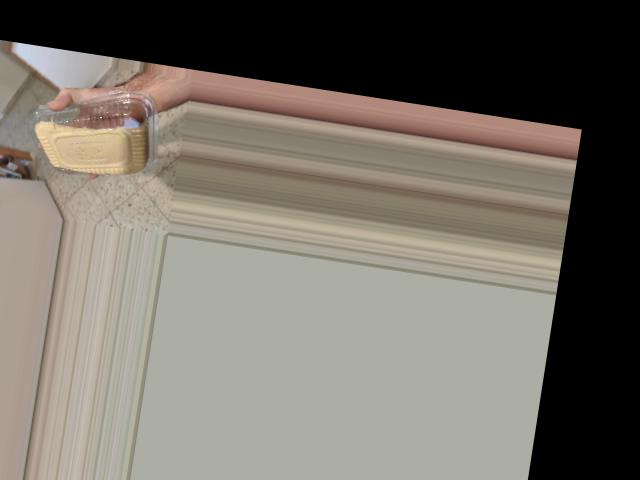cheese: (55, 104, 169, 173)
